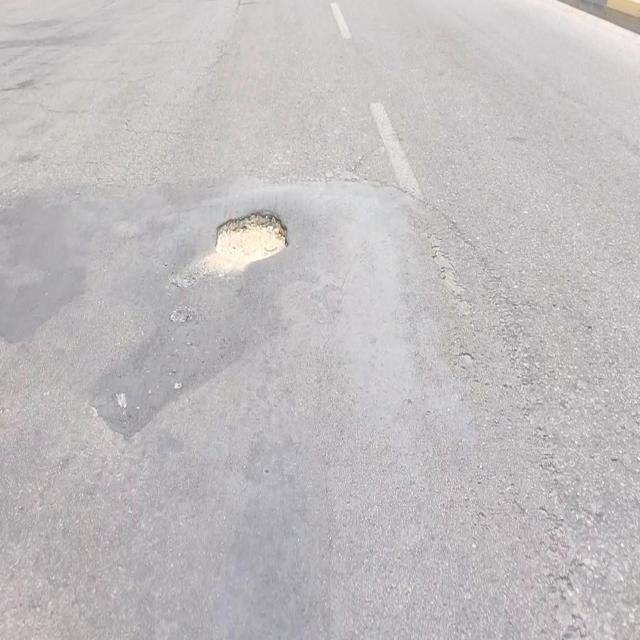Potholes: (213, 204, 290, 275)
